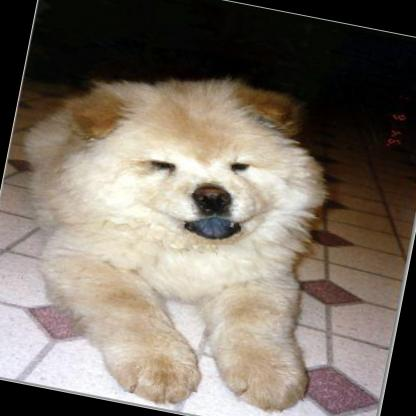chow: (0, 35, 366, 416)
